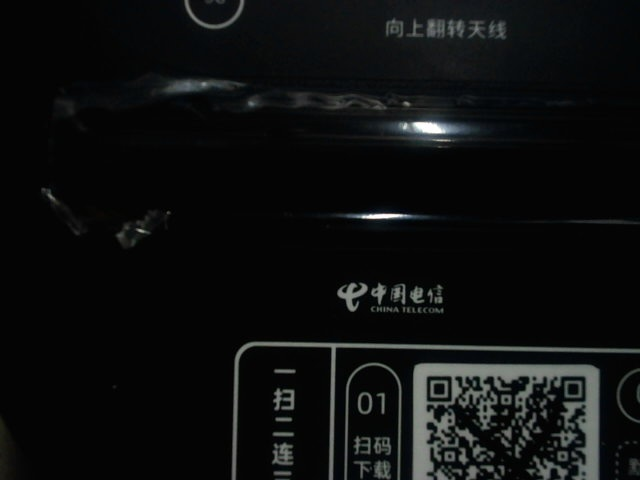AB_ChinaTelecom: (326, 273, 456, 324)
